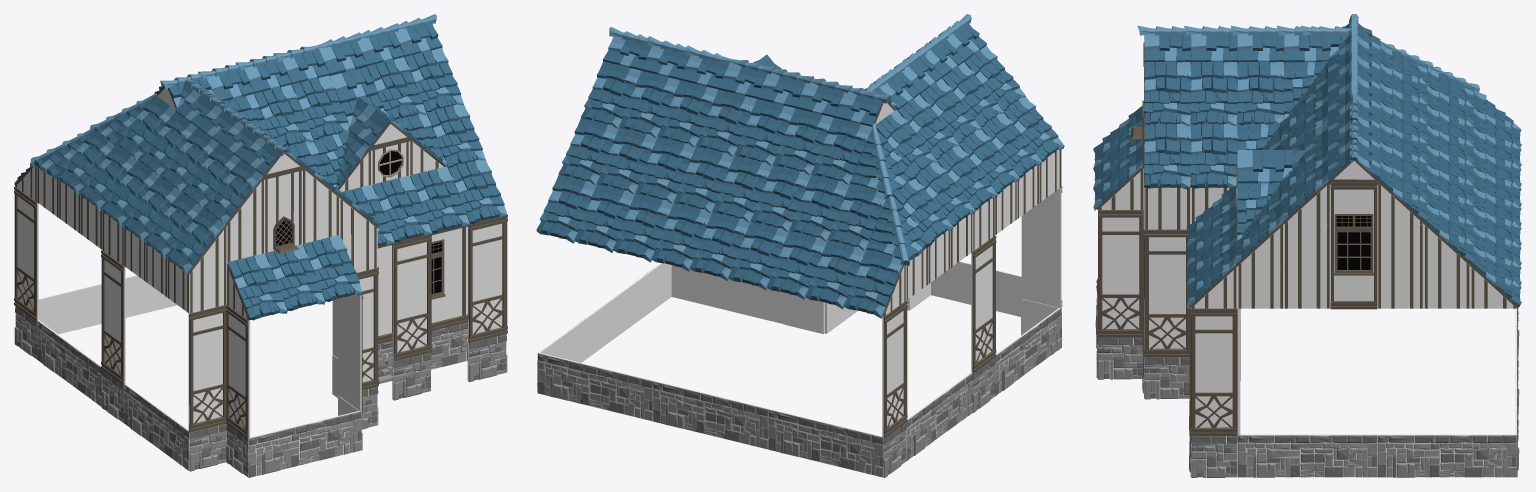
File: House_20_parts.fbx
3 views of the same model, side by side, from view 1: azimuth 30°, elevation 25°; view 2: azimuth 150°, elevation 25°; view 3: azimuth 270°, elevation 25° (orthographic). The views are drawn at different scales.
Parts seen in each view (by area): view 1: WINDOW_03_2, WALL_04_7, WALL_04_10, WALL_04_8, FOUNDATION_02_26, WALL_04_11, WALL_04_13, WALL_04_12, FOUNDATION_02_34, WALL_04_3, FOUNDATION_02_33, FOUNDATION_02_32 (+71 smaller); view 2: FOUNDATION_02_30, FOUNDATION_02_32, FOUNDATION_02_31, WALL_04_10, FOUNDATION_02_27, WALL_04_13, WALL_04_12, FOUNDATION_02_33, FOUNDATION_02_34, FOUNDATION_02_28, ROOF_base_76, ROOF_base_61 (+59 smaller); view 3: FOUNDATION_02_28, FOUNDATION_02_29, WINDOW_04_4, WALL_04_9, WALL_04_5, WALL_04_3, ROOF_base_30, ROOF_base_32, ROOF_base_34, ROOF_base_33, ROOF_base_31, ROOF_up_quad_24 (+79 smaller).
Part boxes in pixels (x1,y1,x2,y2): WINDOW_03_2: (377,226,467,343); WALL_04_7: (392,235,431,361); WALL_04_10: (188,305,227,432); WALL_04_8: (468,217,507,342); FOUNDATION_02_26: (248,411,361,477); WALL_04_11: (226,304,250,438); WALL_04_13: (14,186,38,320); WALL_04_12: (101,250,125,384); FOUNDATION_02_34: (124,384,189,470); WALL_04_3: (338,293,363,411); FOUNDATION_02_33: (37,320,102,406); FOUNDATION_02_32: (38,277,129,334); FOUNDATION_02_30: (537,353,653,421); FOUNDATION_02_32: (768,409,883,477); FOUNDATION_02_31: (653,380,768,449); WALL_04_10: (1022,186,1062,307); FOUNDATION_02_27: (671,265,785,324); WALL_04_13: (882,300,907,437); WALL_04_12: (971,235,996,372); FOUNDATION_02_33: (906,372,973,461); FOUNDATION_02_34: (995,308,1062,396); FOUNDATION_02_28: (604,263,671,344); ROOF_base_76: (844,249,903,318); ROOF_base_61: (728,221,789,290); FOUNDATION_02_28: (1237,434,1377,477); FOUNDATION_02_29: (1377,434,1516,477); WINDOW_04_4: (1330,182,1377,309); WALL_04_9: (1191,308,1237,435); WALL_04_5: (1144,229,1189,357); WALL_04_3: (1098,210,1143,337); ROOF_base_30: (1144,122,1190,189); ROOF_base_32: (1190,122,1237,188); ROOF_base_34: (1237,62,1284,125); ROOF_base_33: (1190,61,1237,125); ROOF_base_31: (1144,62,1190,125); ROOF_up_quad_24: (1237,266,1284,308).
Size of the model in its own units: 928 by 765 by 920.
